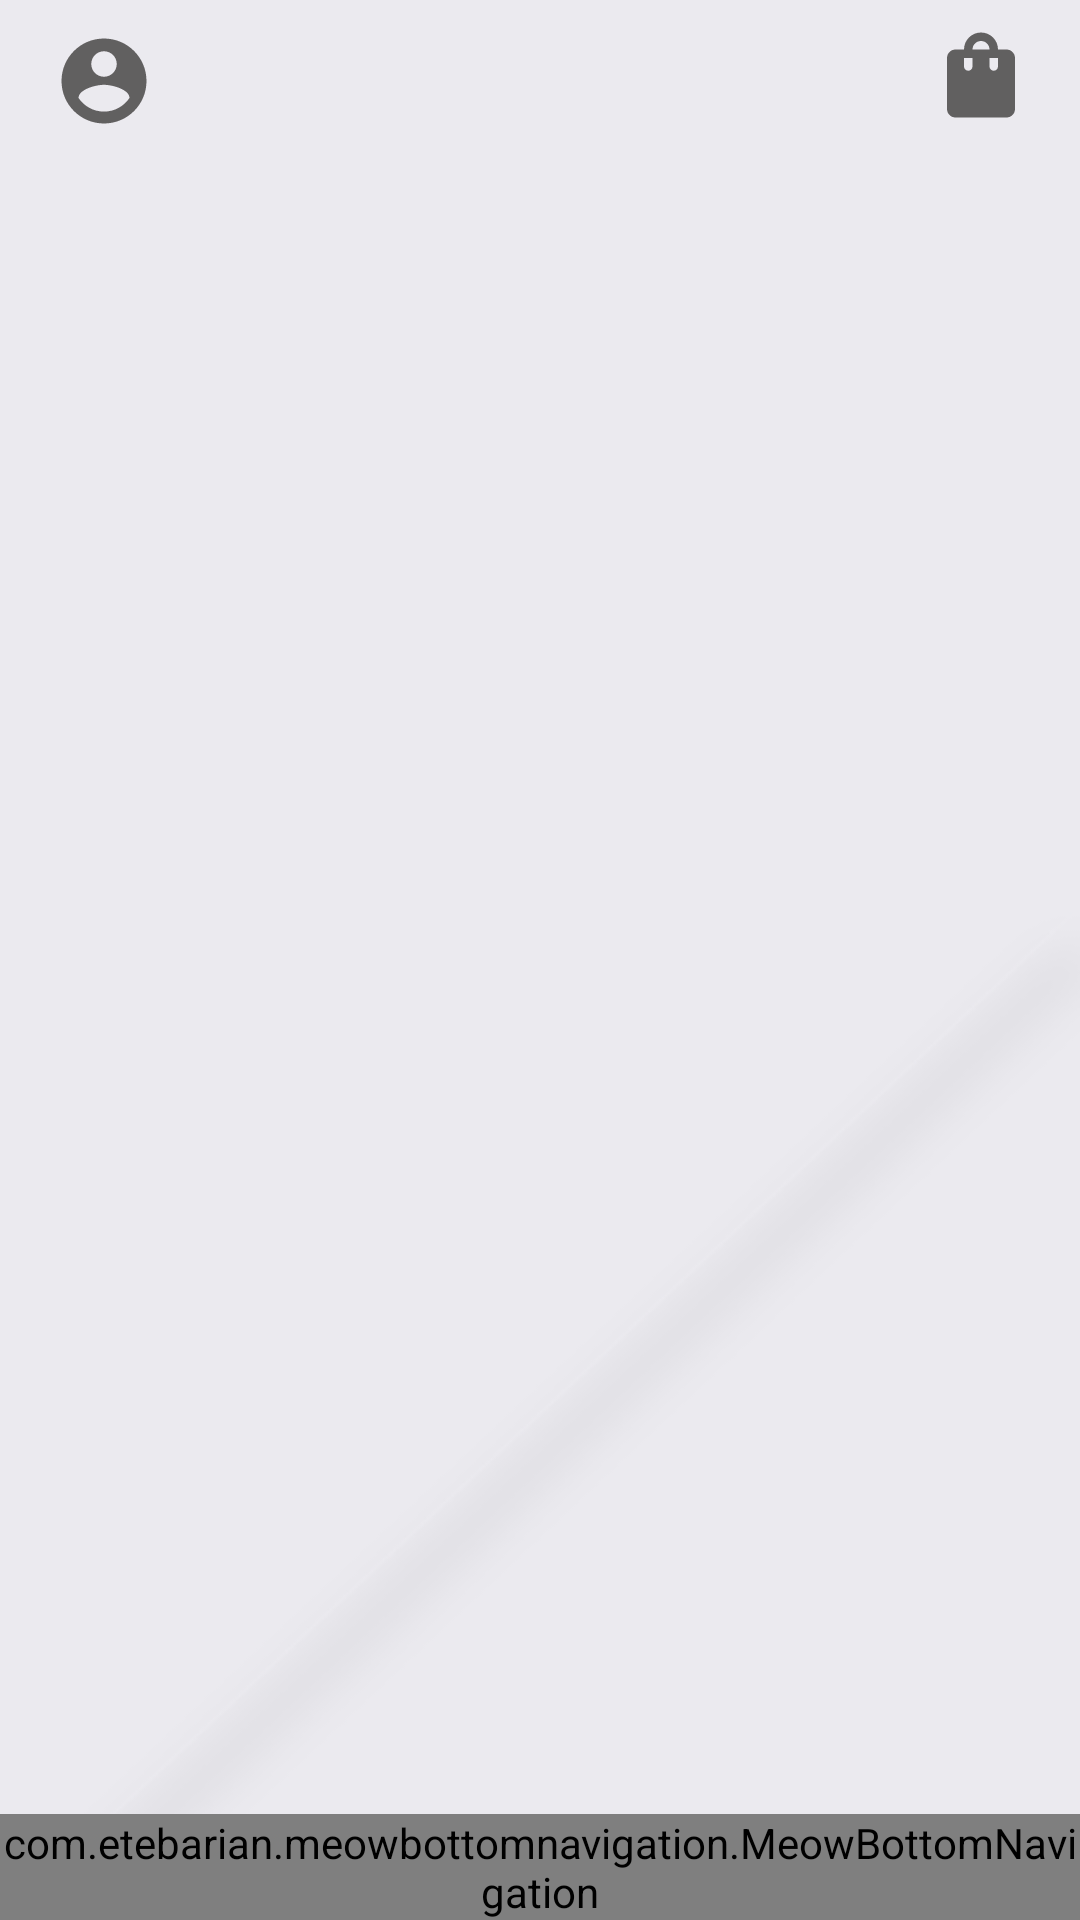

Icons on this 1080w x 1920h Android screen, each with its box as (x1, y1, x2, y2):
account: (61, 38, 147, 124)
shopping bag: (947, 32, 1015, 118)
